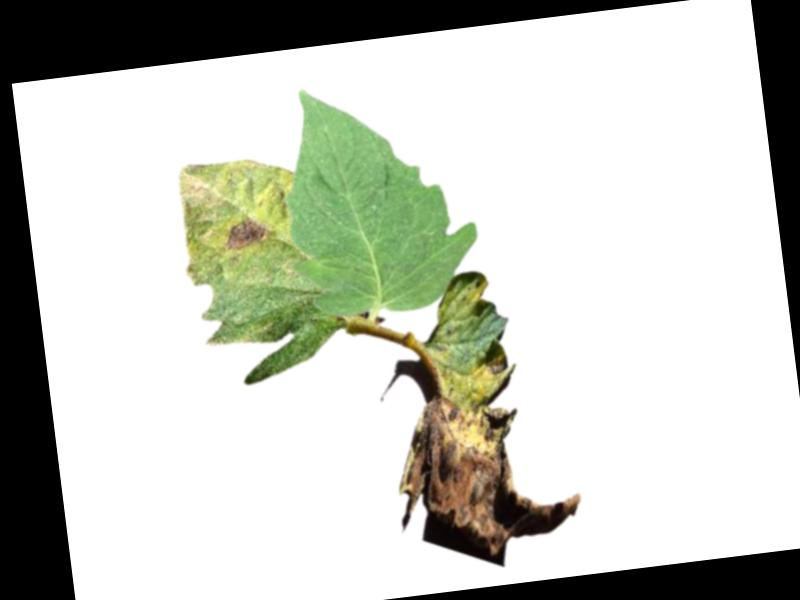Early_blight: (382, 345, 592, 567), (221, 212, 268, 251)
